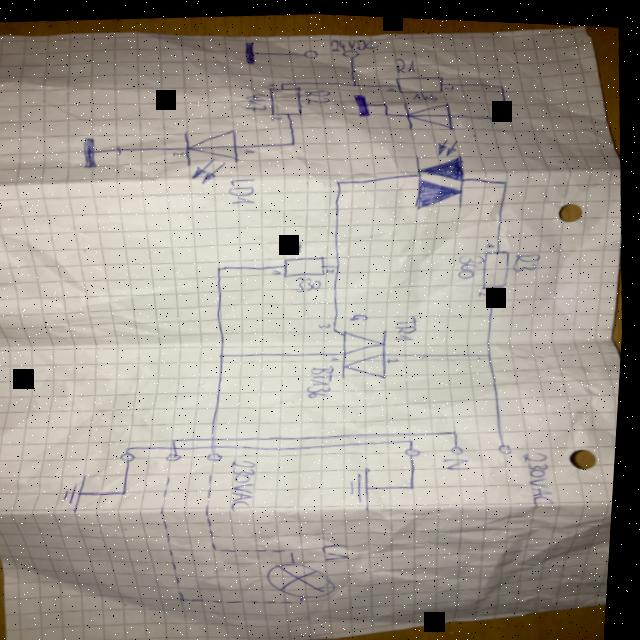crossover: (213, 433, 221, 440), (213, 440, 221, 447), (176, 443, 184, 448)
diode: (182, 123, 245, 185)
ground: (63, 470, 96, 514), (350, 462, 380, 508), (79, 134, 103, 170), (351, 88, 374, 115), (240, 36, 260, 64)
junction: (216, 261, 227, 271), (297, 595, 312, 602), (217, 543, 230, 551), (500, 173, 512, 181), (289, 544, 301, 551), (336, 174, 344, 182), (336, 259, 344, 266), (412, 433, 420, 440), (413, 479, 421, 486), (126, 487, 134, 494), (184, 593, 192, 600), (506, 111, 513, 118), (221, 350, 229, 356), (291, 138, 298, 144), (174, 436, 182, 441), (129, 445, 137, 450), (490, 347, 496, 353), (456, 424, 462, 430), (352, 78, 358, 84), (384, 108, 391, 113), (499, 78, 505, 83), (382, 98, 389, 102), (280, 78, 286, 82)
resistor: (480, 243, 515, 286), (266, 81, 305, 114), (283, 251, 331, 276), (395, 69, 445, 92)
terminal: (501, 437, 520, 450), (341, 44, 361, 56), (302, 45, 319, 56), (454, 440, 470, 451)
text: (523, 443, 563, 503), (231, 454, 265, 511), (307, 358, 342, 398), (227, 173, 260, 205), (328, 32, 381, 50), (394, 309, 423, 340), (457, 248, 489, 276), (513, 245, 545, 268), (325, 537, 357, 560), (301, 84, 333, 105), (444, 450, 478, 469), (281, 229, 307, 253), (243, 88, 269, 110), (296, 271, 326, 290), (392, 52, 418, 71), (412, 86, 439, 99), (350, 308, 373, 318), (389, 351, 405, 361), (479, 284, 493, 294), (321, 318, 336, 326), (485, 235, 498, 244), (173, 147, 185, 156), (244, 145, 257, 153), (332, 351, 345, 359), (271, 111, 283, 119), (444, 79, 456, 87), (273, 265, 285, 273), (385, 81, 397, 88), (328, 263, 338, 271), (266, 78, 276, 84)
